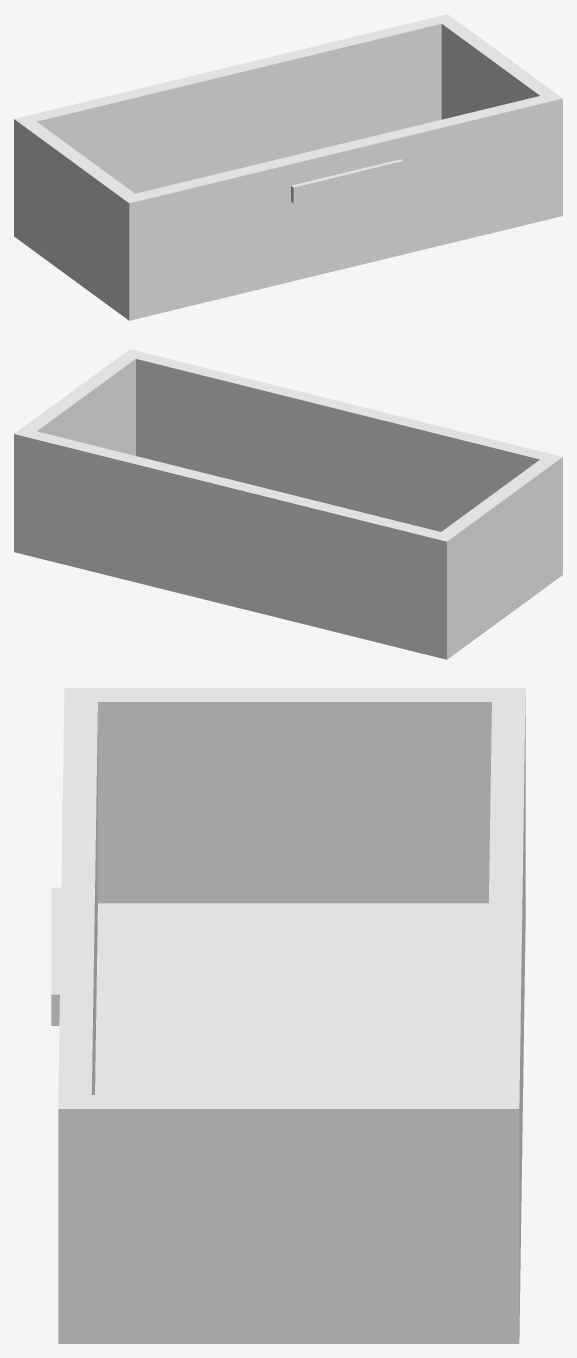
The model's file is Itr_Obj_Fridge2_Drawer1_01.FBX.
3 views of the same model, one above another, from view 1: azimuth 30°, elevation 25°; view 2: azimuth 150°, elevation 25°; view 3: azimuth 270°, elevation 25° (orthographic). The views are drawn at different scales.
Visible parts, largest first — view 1: Itr_Obj_Fridge2_Drawer1_01; view 2: Itr_Obj_Fridge2_Drawer1_01; view 3: Itr_Obj_Fridge2_Drawer1_01.
Boxes of the visible parts, <box> form: Itr_Obj_Fridge2_Drawer1_01: <box>14,14,562,320</box>; Itr_Obj_Fridge2_Drawer1_01: <box>14,349,562,659</box>; Itr_Obj_Fridge2_Drawer1_01: <box>51,688,525,1343</box>.
Size of the model in its own units: 30.61 by 7.99 by 14.54.
